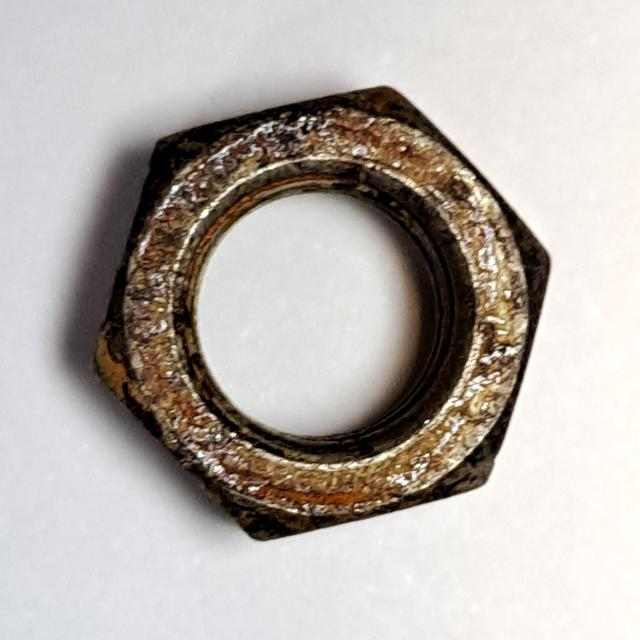Rust: (79, 74, 561, 553)
